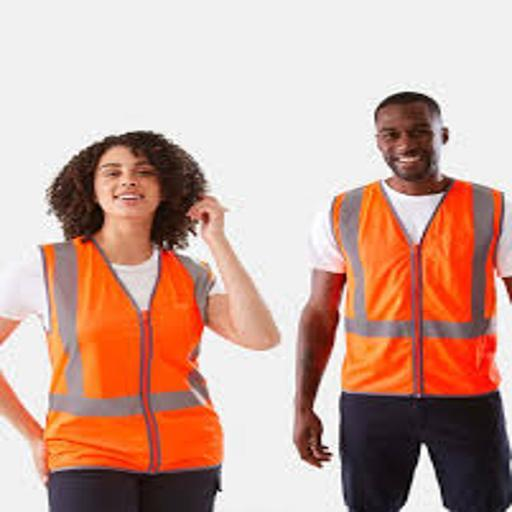Humans: (1, 120, 285, 512), (291, 83, 512, 512)
Vest: (26, 228, 238, 479), (315, 185, 505, 403)
